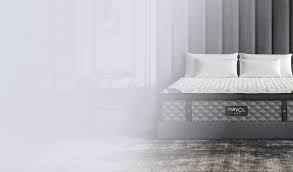bed-matress: (157, 75, 293, 121)
